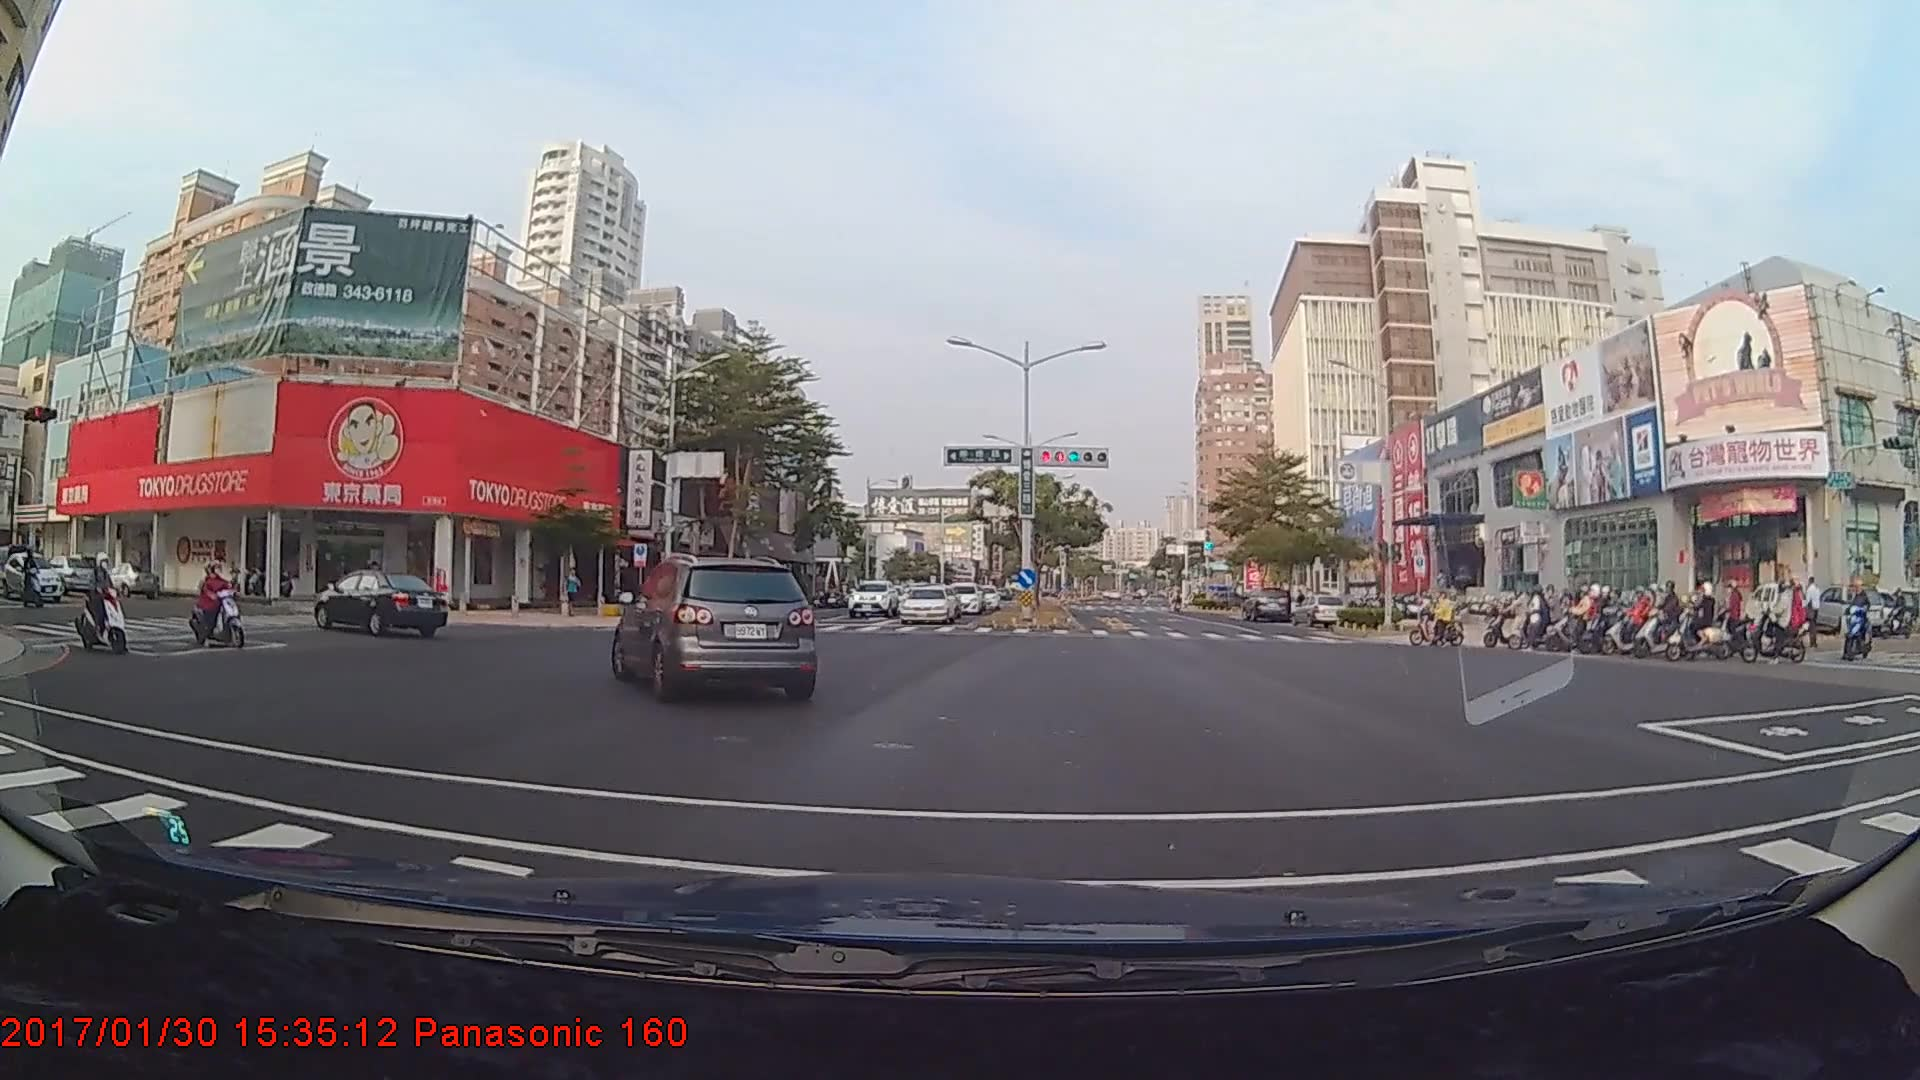rider: (1736, 578, 1805, 668), (74, 555, 135, 656), (188, 563, 251, 650), (1667, 585, 1736, 660), (1640, 585, 1704, 658), (1497, 593, 1568, 651), (1404, 585, 1466, 648), (1834, 590, 1882, 670), (1553, 586, 1608, 651), (1584, 589, 1628, 653)
vehicle: (610, 550, 818, 704), (313, 569, 450, 640), (2, 552, 63, 601), (40, 554, 102, 593), (899, 587, 959, 627), (846, 579, 900, 617), (1241, 585, 1291, 620), (944, 579, 984, 614)
